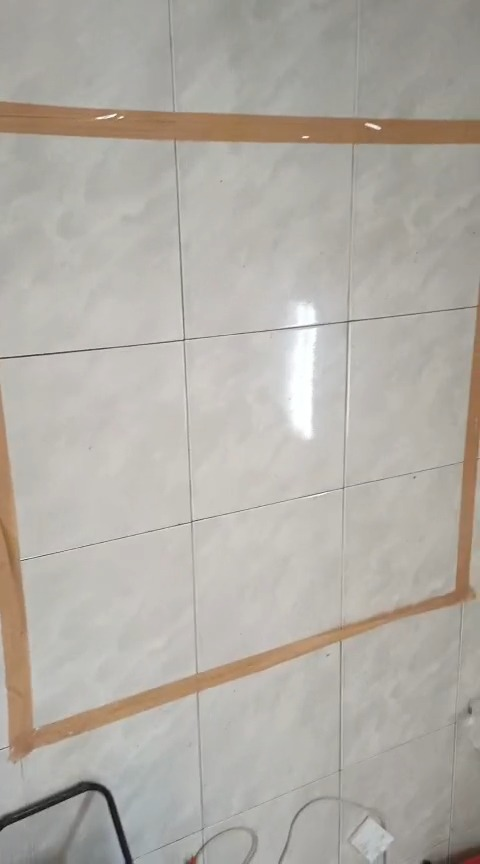floor marking: (0, 315, 479, 759), (1, 102, 479, 146)
